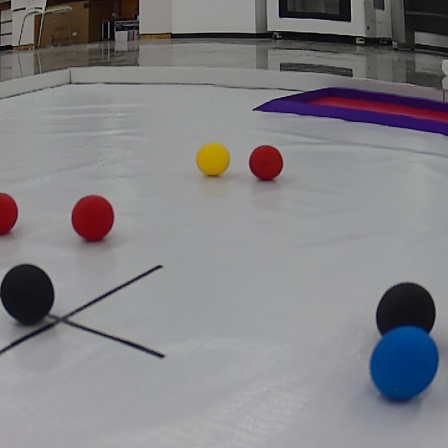black: (2, 264, 62, 330), (378, 280, 437, 339), (0, 191, 22, 239)
blue: (369, 328, 436, 401)
red: (70, 194, 114, 240), (248, 144, 284, 180)
red_aim: (256, 78, 448, 137)
yellow: (195, 141, 231, 176)
